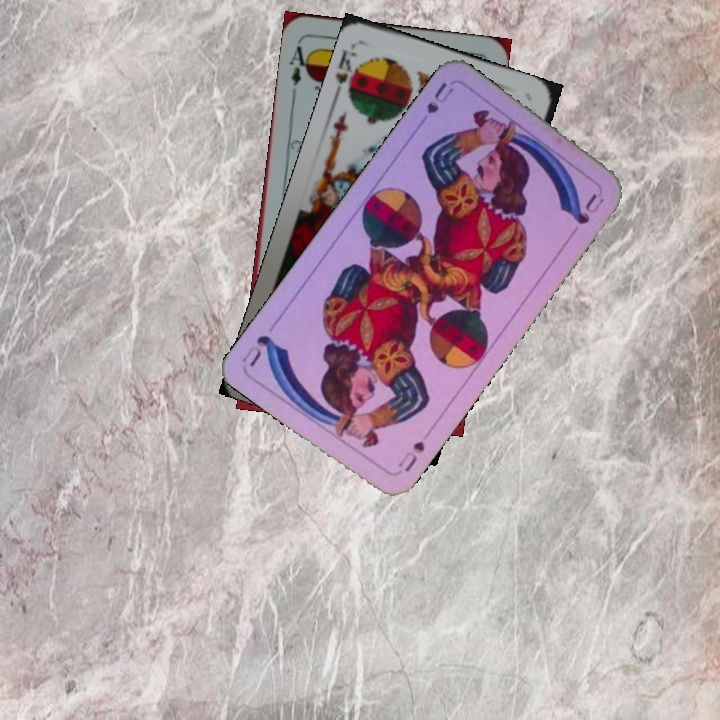EA: (285, 38, 314, 88)
SK: (330, 46, 366, 103)
SU: (413, 77, 456, 131), (393, 437, 428, 475)
